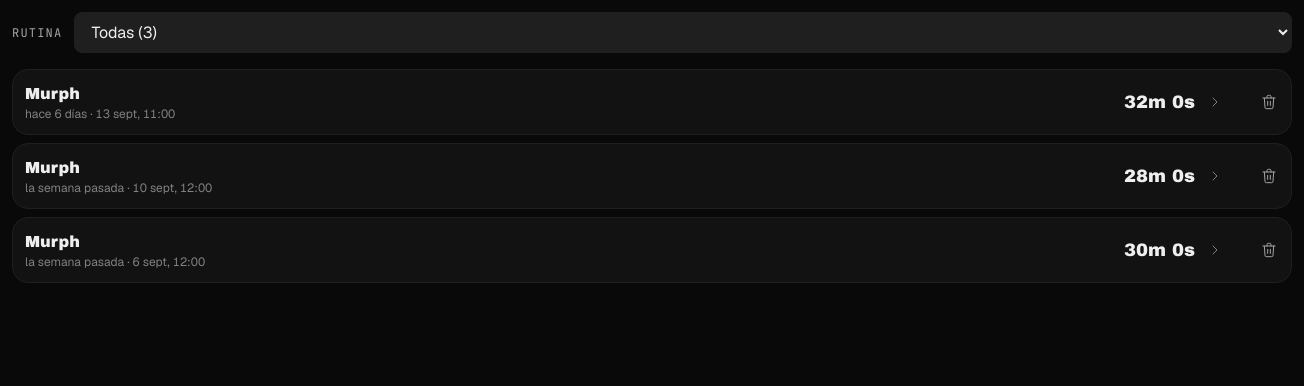
Test case: HistoryList per-workout stats › shows total runs, average, fastest and last when filter is active
This screenshot has width=1304, height=386.
Select "Murph (3)" in the dropdown named "filtrar historial por rutina" at (683, 32), box [74,12,1292,53]
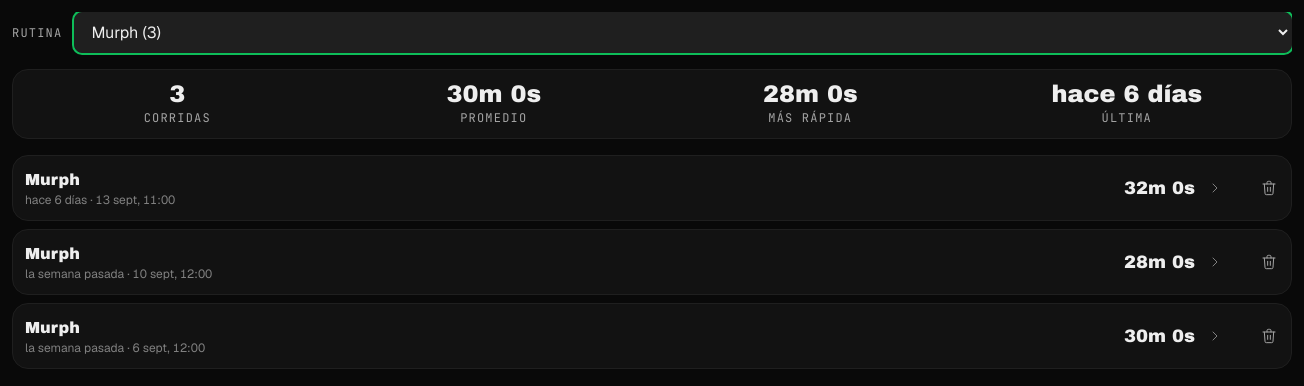
Now the text "Corridas" is shown, box [144,110,211,126]
Now the text "Promedio" is shown, box [460,110,527,126]
Now the text "Más rápida" is shown, box [768,110,852,126]
